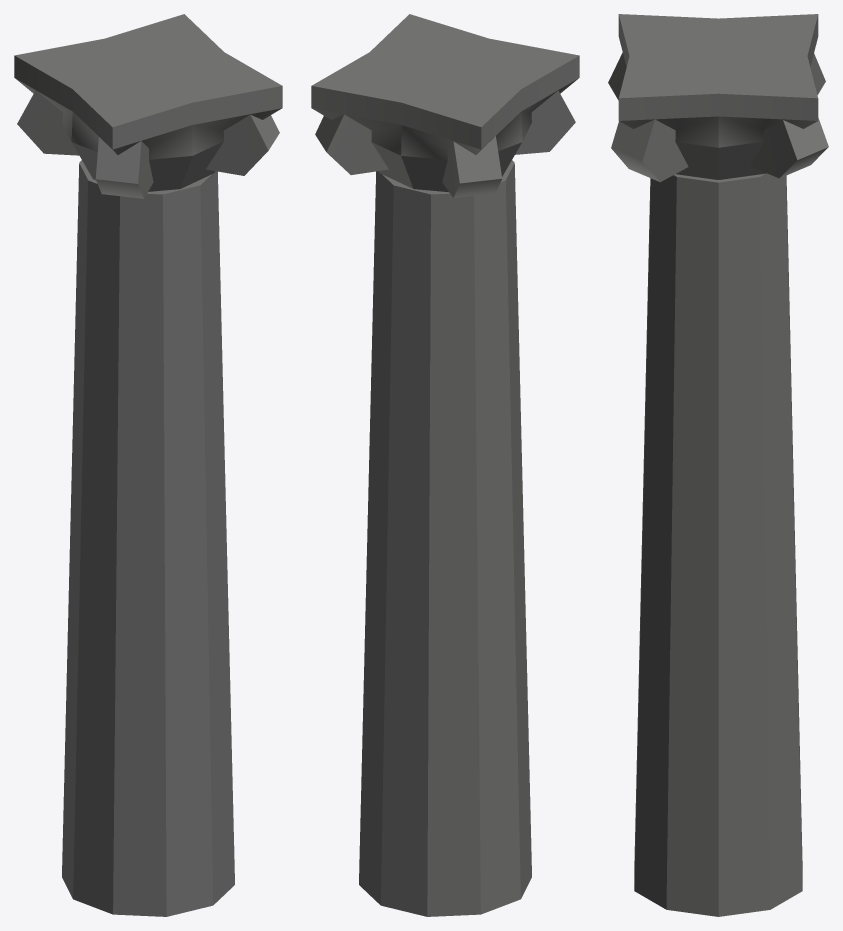
File: SM_Env_Pillar_Round_Simple_02.glb
3 renders of one model, left to right at view 1: azimuth 30°, elevation 25°; view 2: azimuth 150°, elevation 25°; view 3: azimuth 270°, elevation 25°, orthographic.
Parts seen in each view (by area): view 1: SM_Env_Pillar_Round_Simple_02; view 2: SM_Env_Pillar_Round_Simple_02; view 3: SM_Env_Pillar_Round_Simple_02.
Boxes of the visible parts, box(x1,y1,x2,y2) form: SM_Env_Pillar_Round_Simple_02: box(14, 14, 282, 916); SM_Env_Pillar_Round_Simple_02: box(311, 14, 579, 916); SM_Env_Pillar_Round_Simple_02: box(608, 14, 828, 916).
Size of the model in its own units: 0.00837 by 0.0344 by 0.00837.
Materials: 1 (1 with a texture image).
